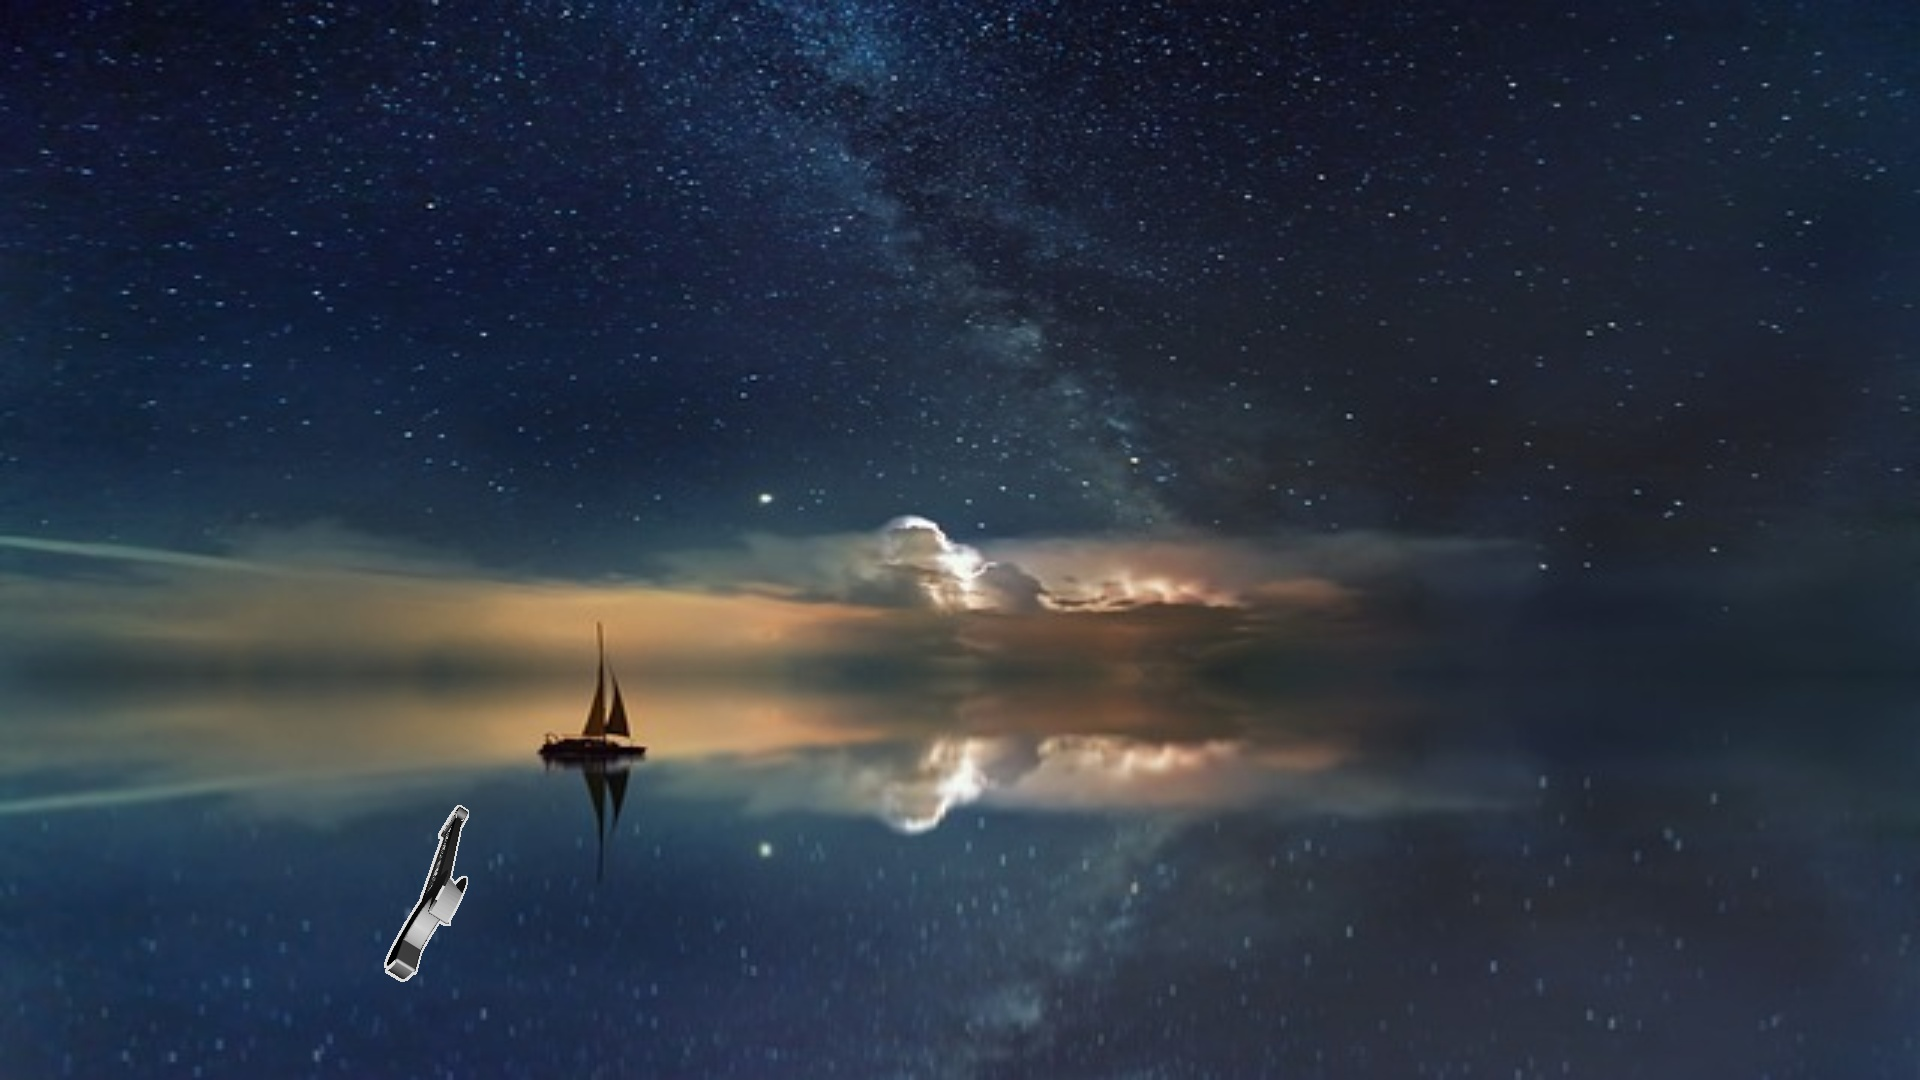Mixed Key: (384, 804, 468, 981)
